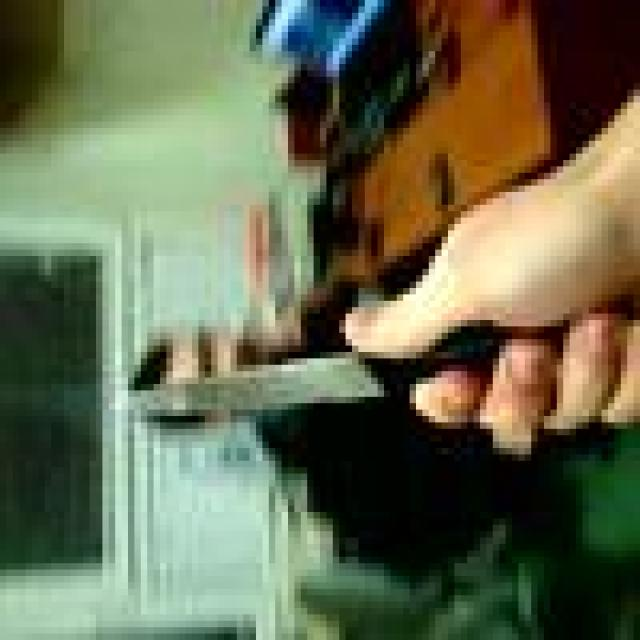knife: (113, 358, 410, 412)
